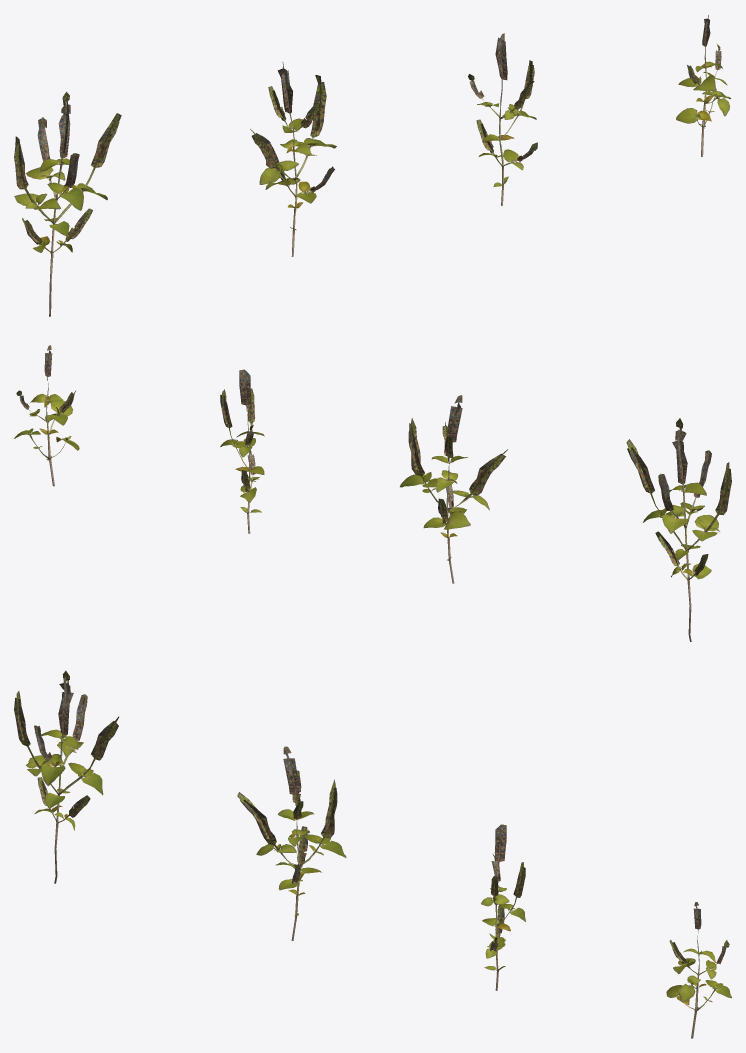
Rendered from shrub-03-lod0.glb.
3 views of the same model, one above another, from view 1: azimuth 30°, elevation 25°; view 2: azimuth 150°, elevation 25°; view 3: azimuth 330°, elevation 25° (orthographic). The views are drawn at different scales.
Visible parts, largest first — view 1: shrub_03_a; view 2: shrub_03_a; view 3: shrub_03_a.
Boxes of the visible parts, <box> form: shrub_03_a: <box>14,15,731,316</box>; shrub_03_a: <box>14,345,731,641</box>; shrub_03_a: <box>14,670,731,1038</box>.
Size of the model in its own units: 1.37 by 0.4028 by 0.1512.
1 material, 1 textured.
